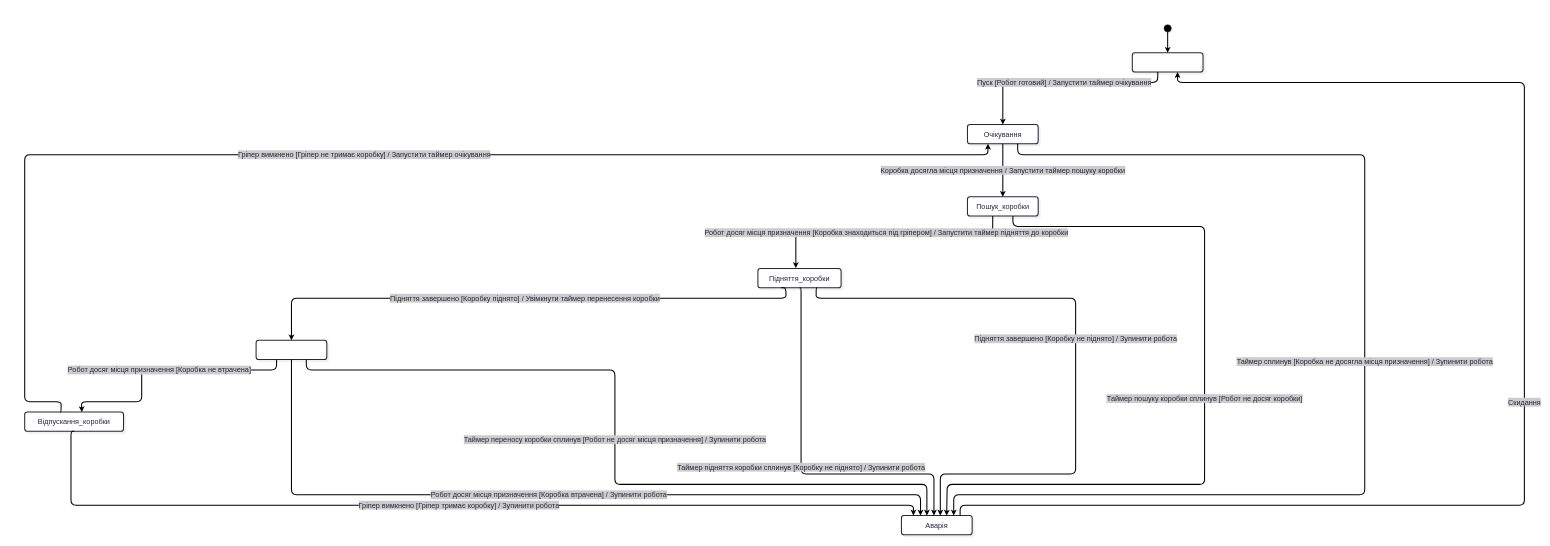
Some shapes in this 1550 by 546 pixel diagram are drawn without their labels. Each missing label, with the centre of its shape:
"Зупинка" belongs at (x=1168, y=63).
"Перенос_коробки" belongs at (x=292, y=351).
